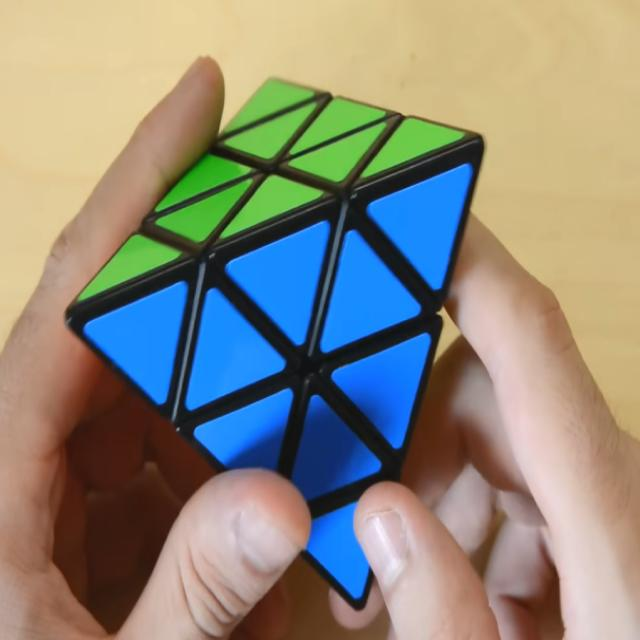Pyraminx: (66, 82, 482, 607)
